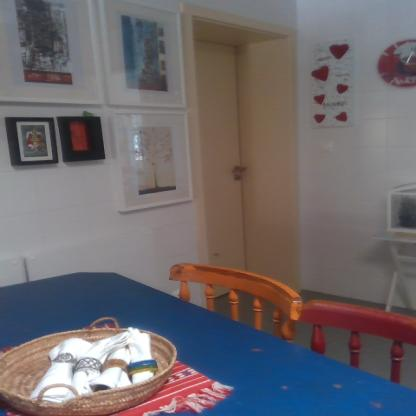closed: (184, 6, 296, 264)
